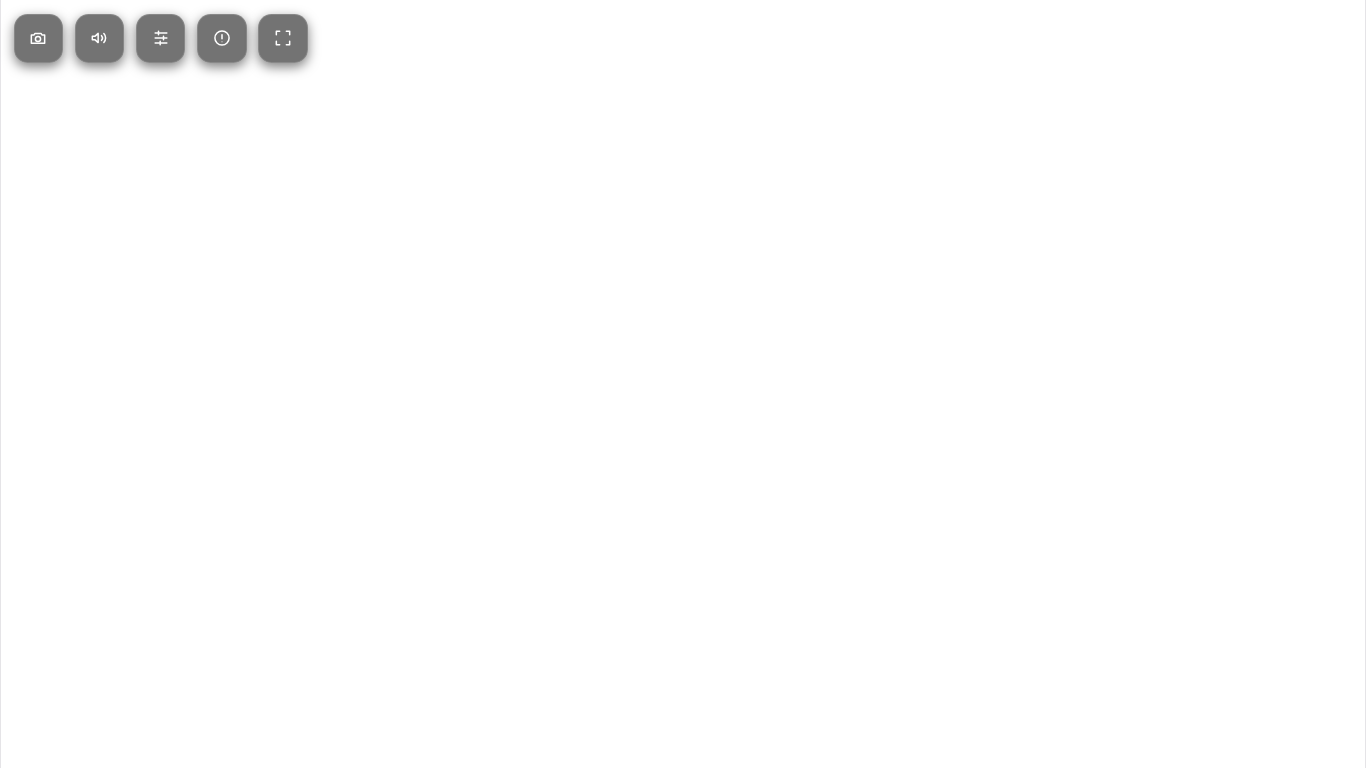
it: PieceStageControls capability gating › does not disable capability controls that are available
Expected: the button named "unmute sound" is enabled, [75,14,124,63]
Expected: the button named "Show hand gesture guide" is enabled, [197,14,247,63]
Click the button named "Piece controls": (161, 38) [136,14,185,63]
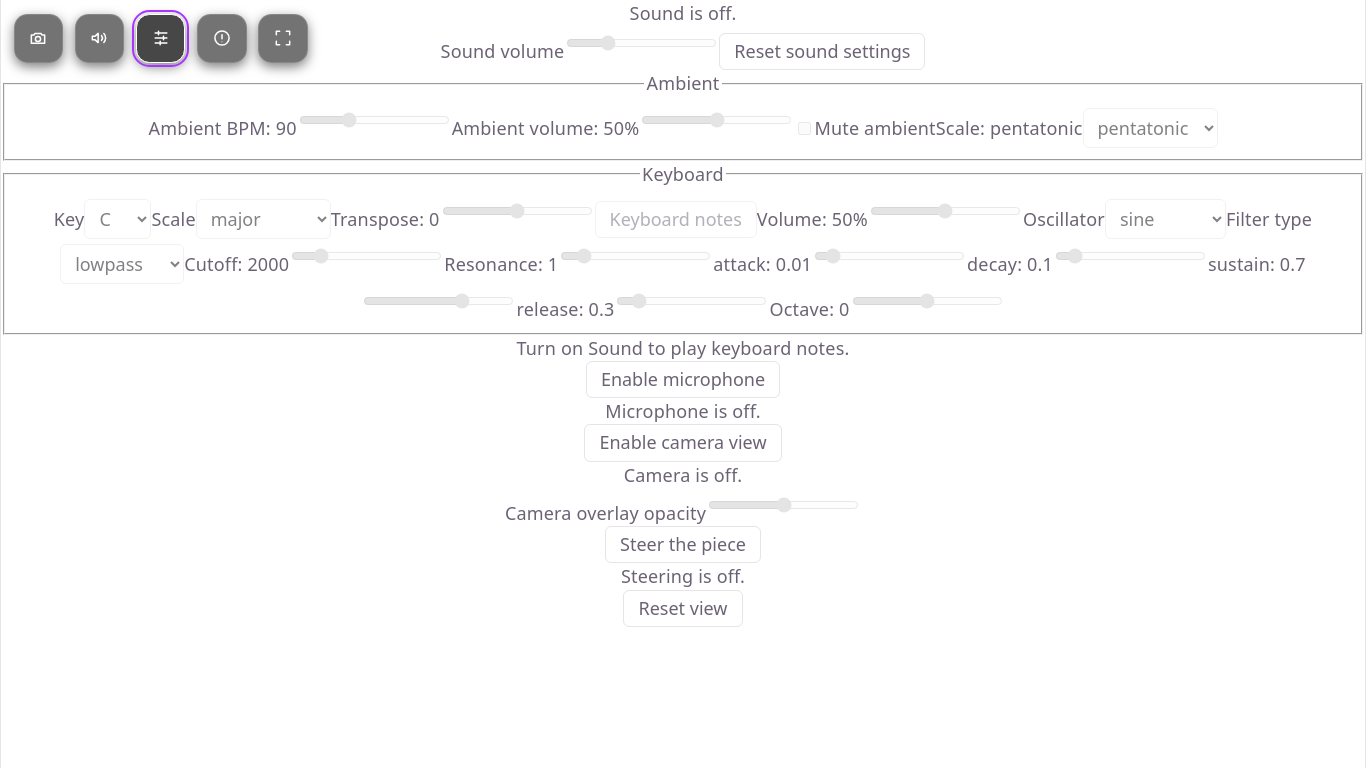
Expected: the button "Enable microphone" is enabled, [586,361,780,398]
Expected: the button "Enable camera view" is enabled, [584,424,782,462]
Expected: the button "Steer the piece" is enabled, [605,526,761,563]
